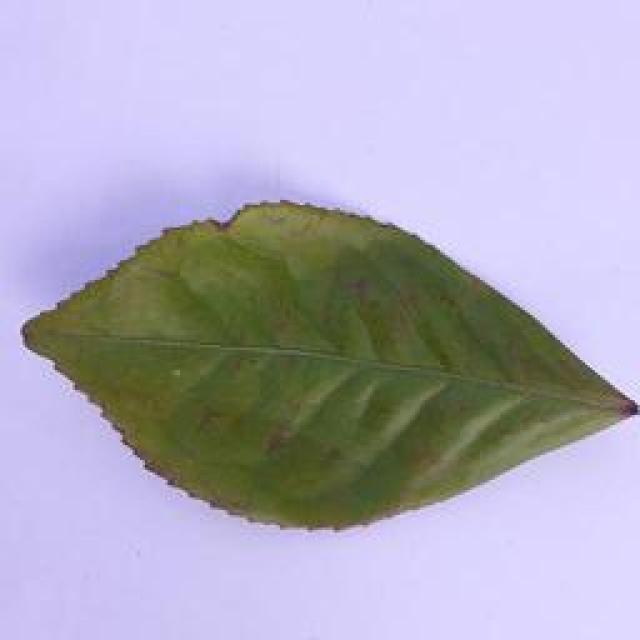Red Leaf Spot: (0, 174, 640, 534)
